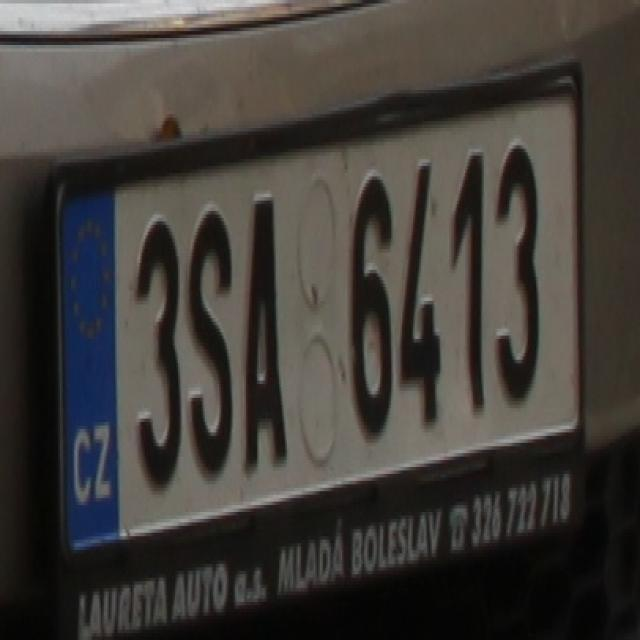1: (446, 138, 492, 412)
3: (132, 218, 183, 495), (493, 138, 542, 402)
4: (397, 159, 448, 426)
6: (348, 173, 394, 436)
A: (238, 190, 290, 470)
S: (188, 204, 238, 471)
